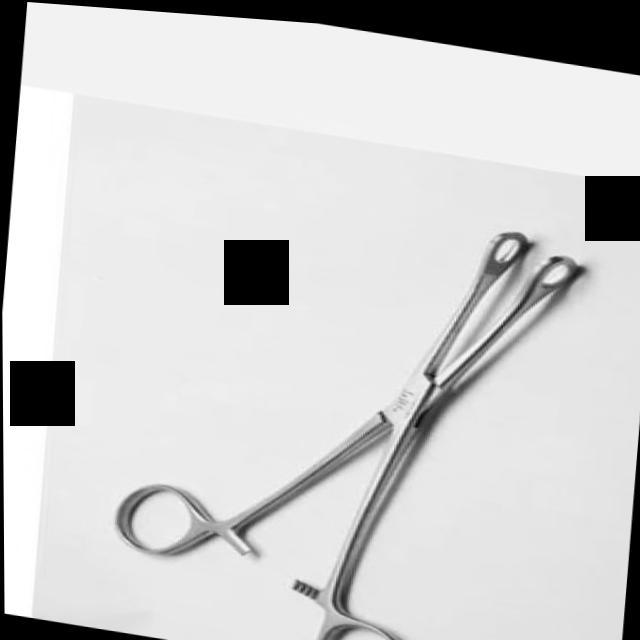Sponge Holding Forceps: (70, 158, 607, 640)
